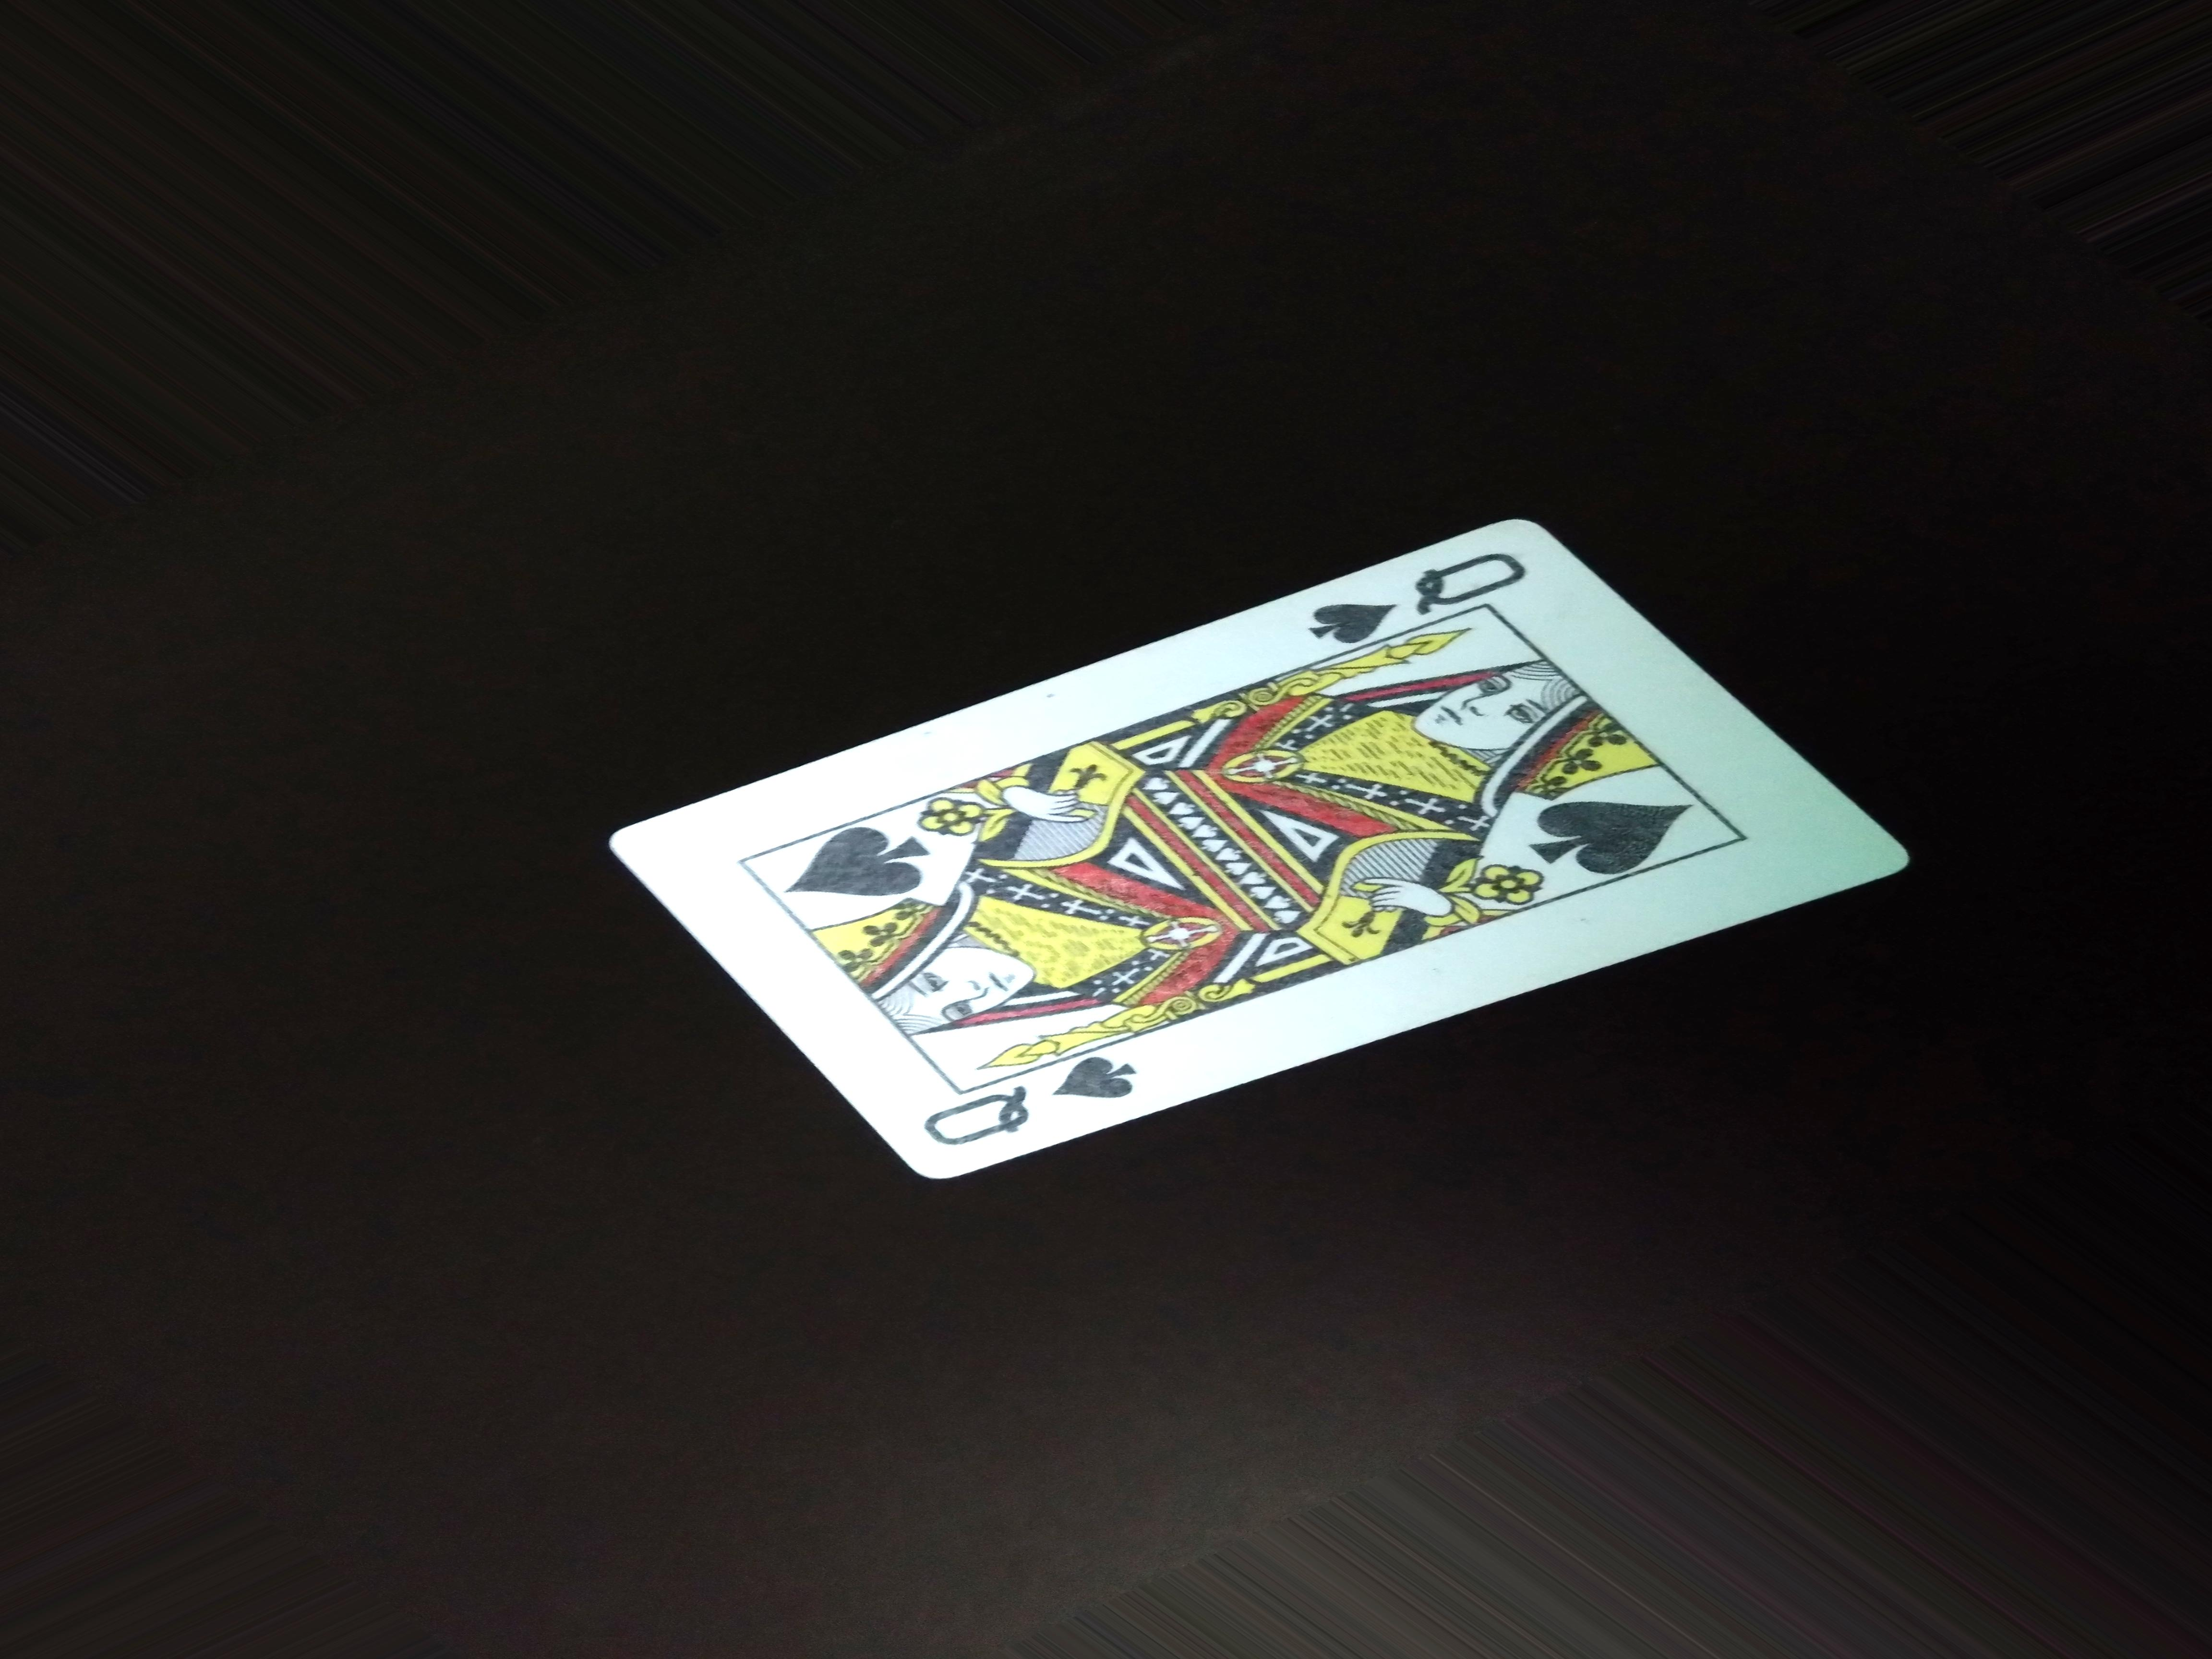QS: (927, 1047, 1146, 1154)
